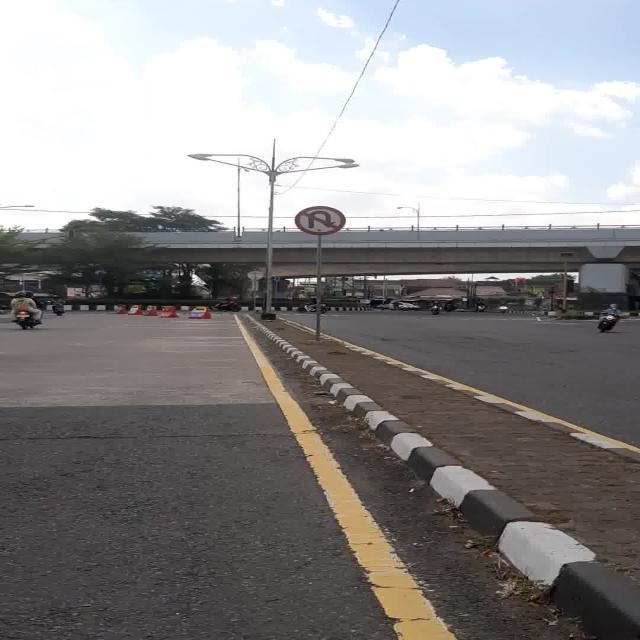Dilarang Putar Balik: (294, 206, 347, 236)
